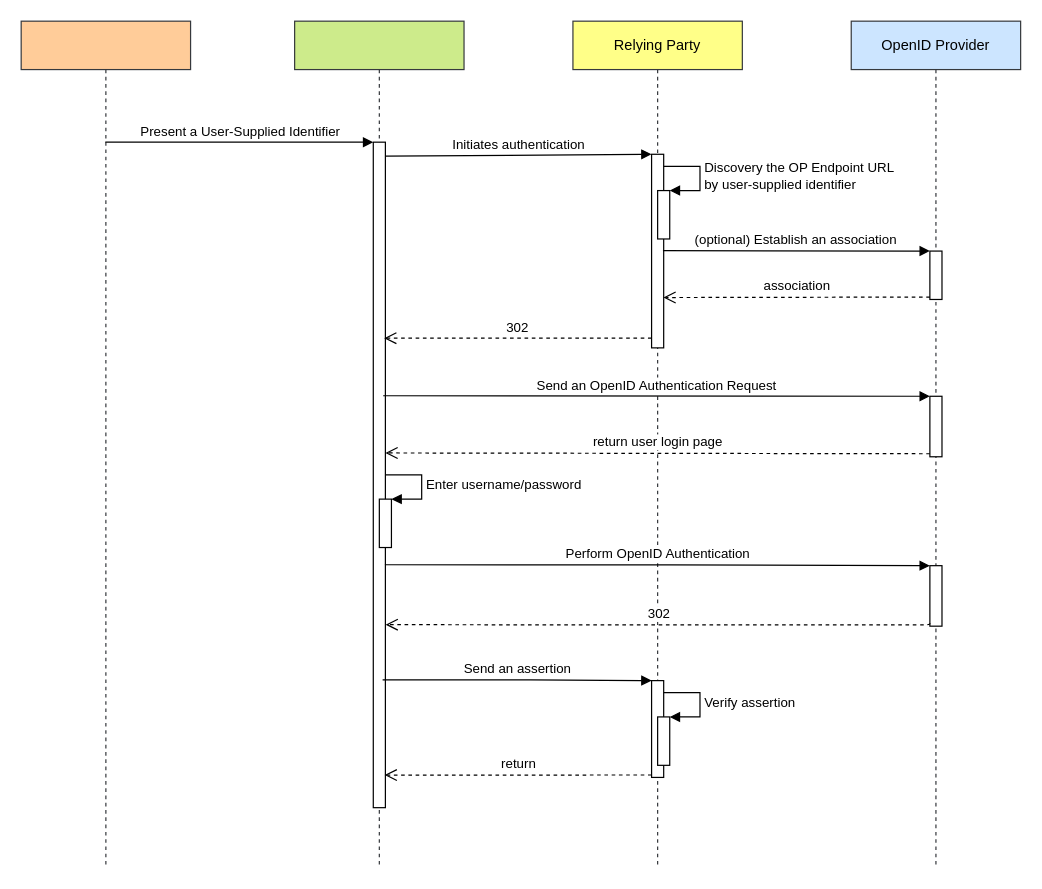
Some shapes in this 1042 by 889 pixel diagram are drawn without their labels. The box of each missing label's shape, as (x1, y1, x2, y2) in pixels:
End User: (20, 20, 191, 868)
User Agent: (293, 20, 464, 868)
